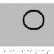no answer: (18, 7, 47, 33)
